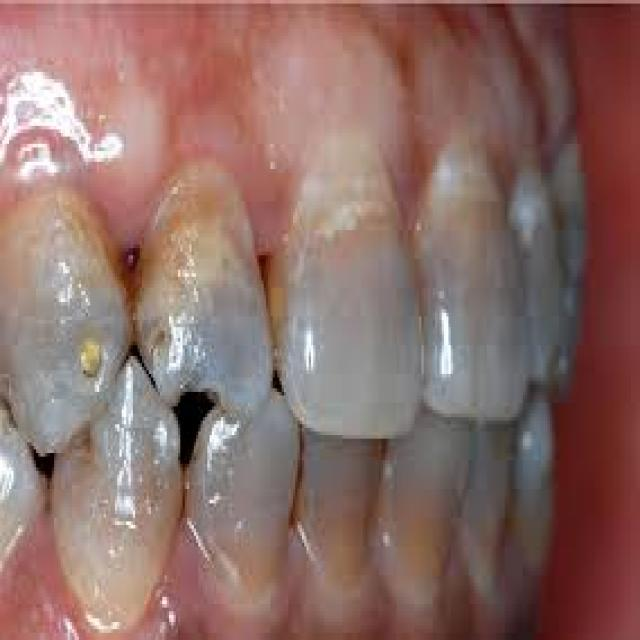Tooth Discoloration: (0, 119, 586, 600)
